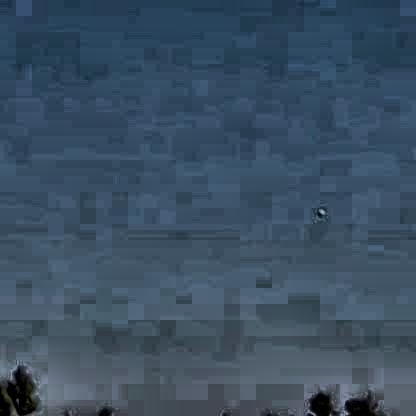golfball: (314, 206, 321, 213)
